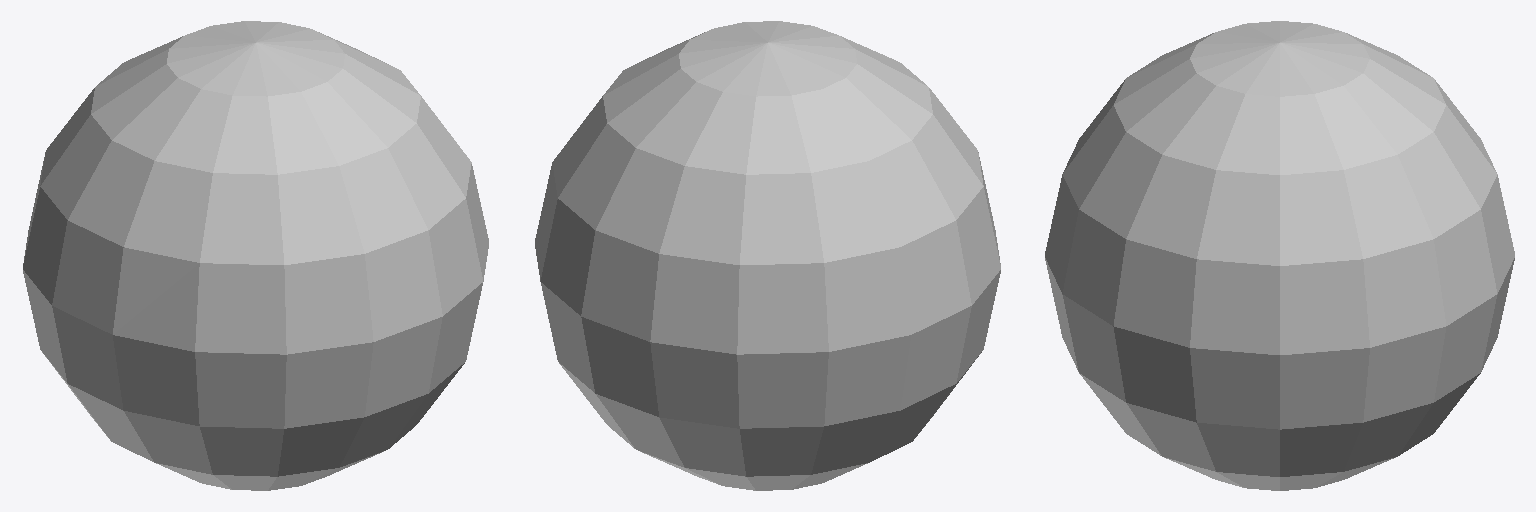
File: Bullet.Collision.obj
3 renders of one model, left to right at view 1: azimuth 30°, elevation 25°; view 2: azimuth 150°, elevation 25°; view 3: azimuth 270°, elevation 25°, orthographic.
Parts seen in each view (by area): view 1: Bullet.SphereShape; view 2: Bullet.SphereShape; view 3: Bullet.SphereShape.
Part boxes in pixels (bbox=[...]): Bullet.SphereShape: bbox=[23, 21, 488, 490]; Bullet.SphereShape: bbox=[535, 21, 1000, 490]; Bullet.SphereShape: bbox=[1045, 21, 1514, 490].
Size of the model in its own units: 0.159 by 0.159 by 0.159.